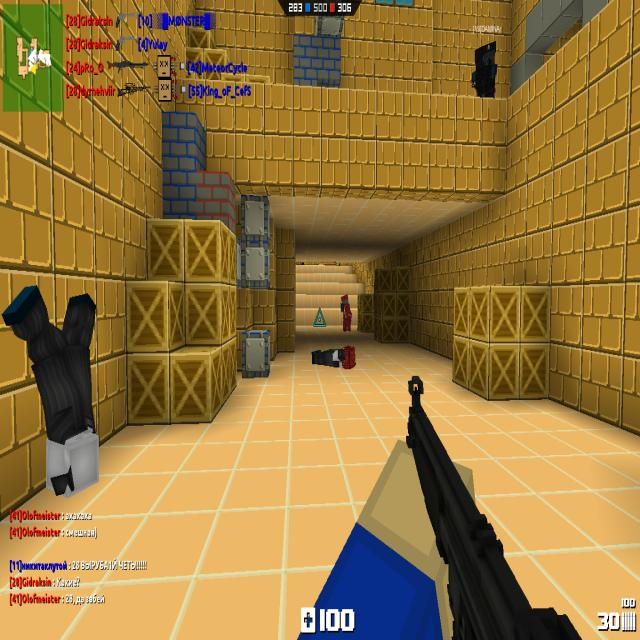enemy: (340, 292, 352, 332)
